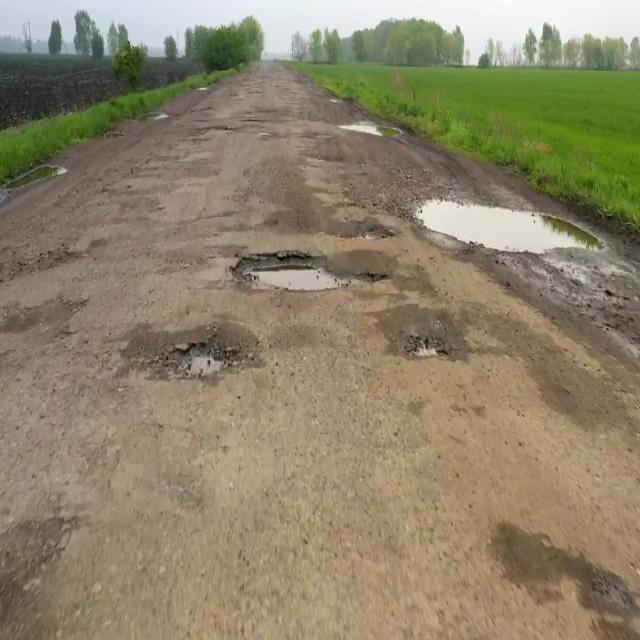road-pothole: (420, 195, 604, 254), (230, 251, 387, 292), (169, 331, 244, 379), (7, 157, 74, 194), (402, 334, 455, 364), (339, 121, 404, 139)
